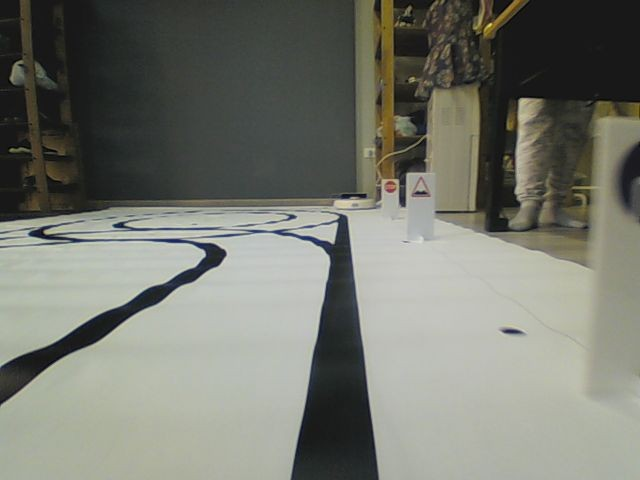Nerov: (410, 176, 431, 199)
